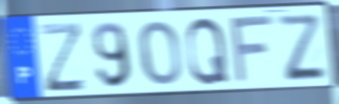9: (90, 20, 134, 90)
F: (228, 13, 276, 86)
O: (137, 19, 183, 88)
Q: (184, 15, 231, 87)
Z: (275, 13, 329, 84), (38, 20, 88, 94)
